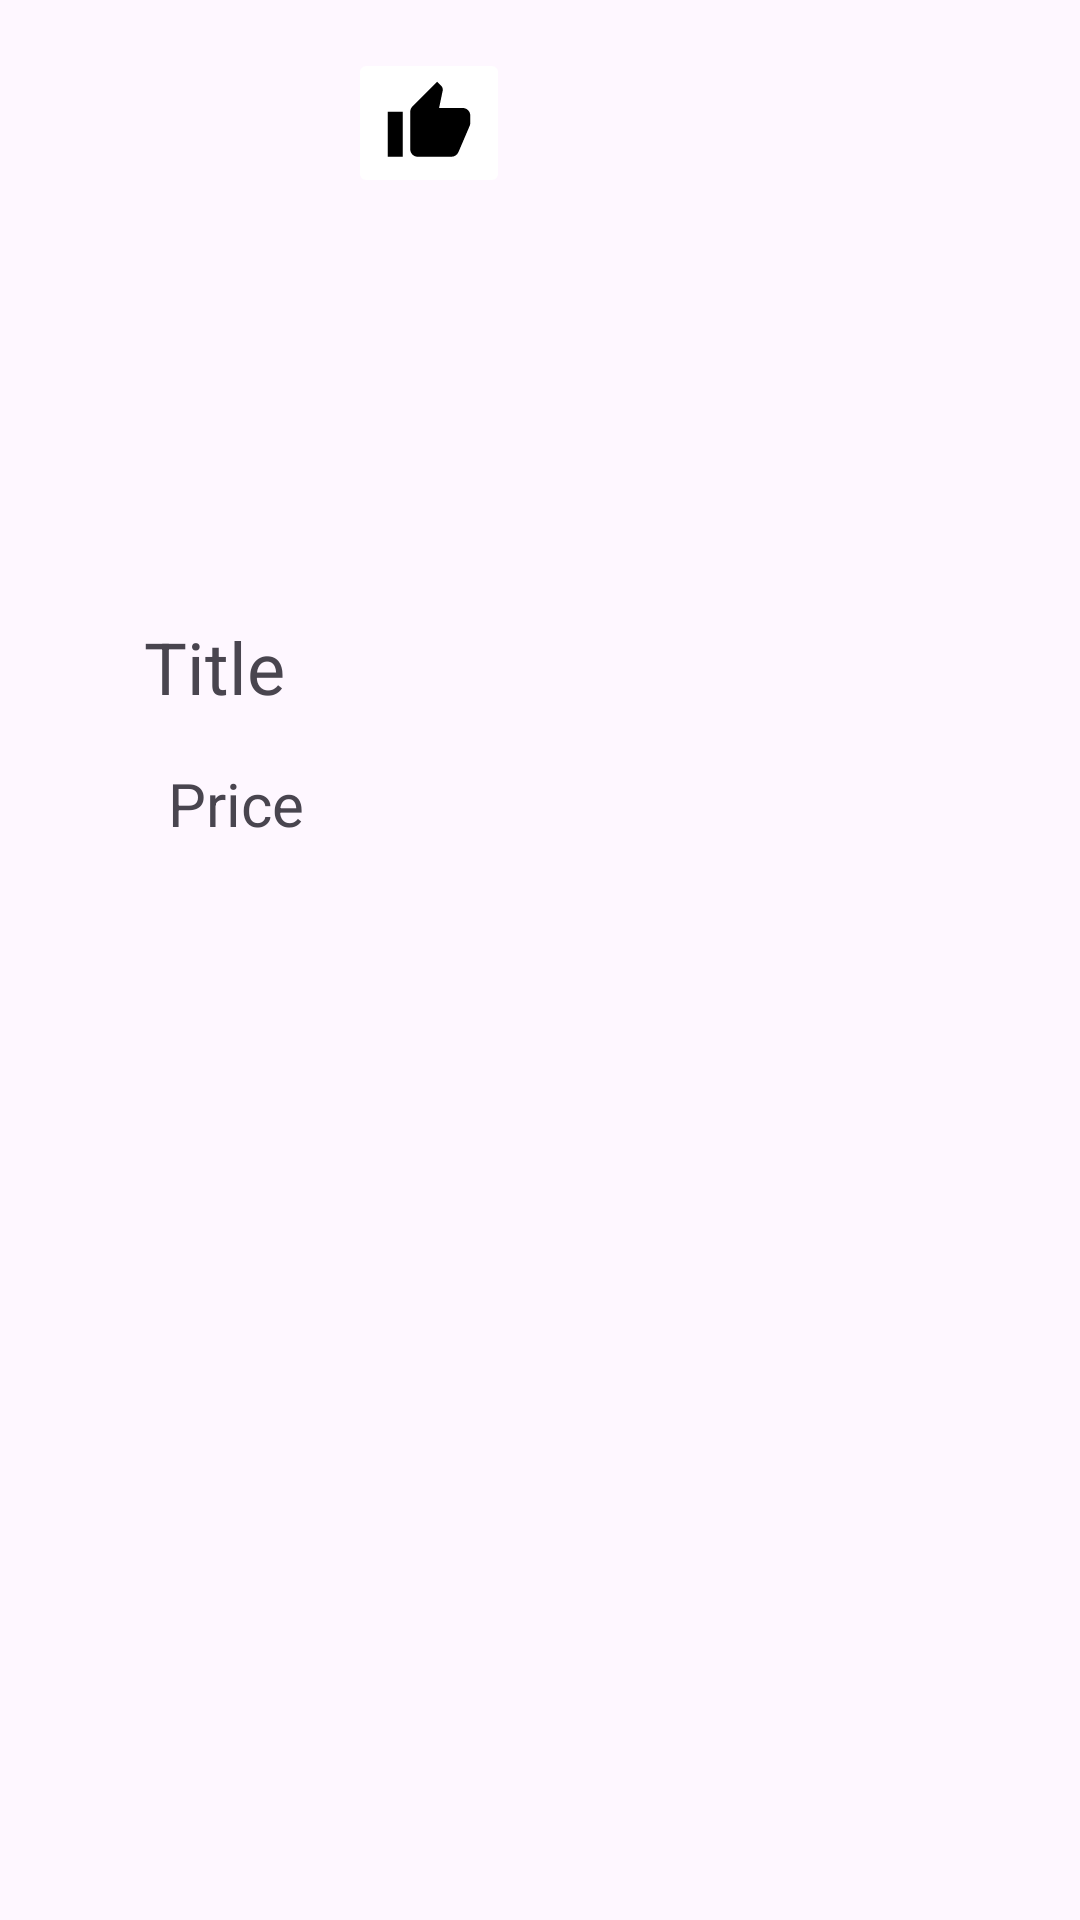

Icon bounding boxes for this 1080x1920 phone screenshot, format (x1, y1, x2, y2):
thumbsup: (387, 82, 471, 157)
